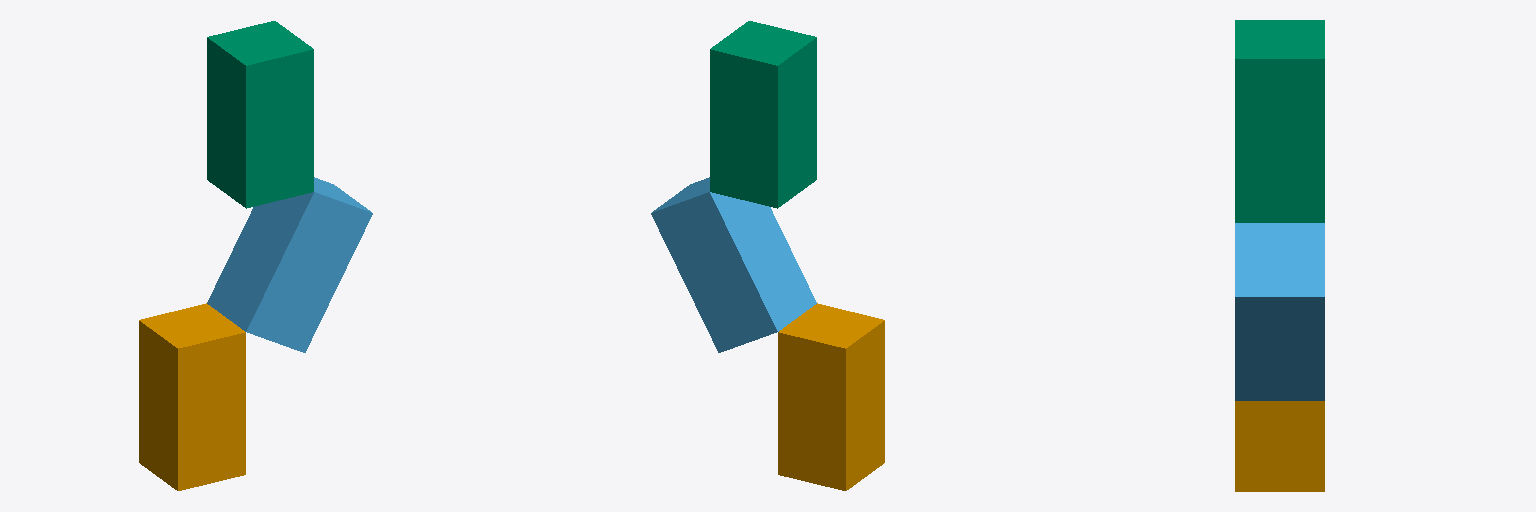
robot.urdf — test_blocks_assy:
<?xml version="1.0" ?>
<robot name="test_blocks_assy">

  <mujoco>
    <compiler meshdir="meshes" fusestatic="false"/>
  </mujoco>

<link name="base_link">
  <inertial>
    <origin xyz="0.0 0.0 0.05" rpy="0 0 0"/>
    <mass value="1.9625"/>
    <inertia ixx="0.0020442708333333302" iyy="0.0020442708333333302" izz="0.0008177083333333328" ixy="0.0" iyz="0.0" ixz="0.0"/>
  </inertial>
  <visual>
    <origin xyz="0 0 0" rpy="0 0 0"/>
    <geometry>
      <mesh filename="meshes/base_link.stl" scale="0.001 0.001 0.001"/>
    </geometry>
  </visual>
  <collision>
    <origin xyz="0 0 0" rpy="0 0 0"/>
    <geometry>
      <mesh filename="meshes/base_link.stl" scale="0.001 0.001 0.001"/>
    </geometry>
  </collision>
</link>

<link name="box_11">
  <inertial>
    <origin xyz="0.046650635094610975 0.0 0.030801270189221935" rpy="0 0 0"/>
    <mass value="1.9625000000000006"/>
    <inertia ixx="0.0017376302083333267" iyy="0.0020442708333333268" izz="0.0011243489583333335" ixy="0.0" iyz="0.0" ixz="-0.0005311171421646735"/>
  </inertial>
  <visual>
    <origin xyz="-0.025 -0.0 -0.1" rpy="0 0 0"/>
    <geometry>
      <mesh filename="meshes/box_11.stl" scale="0.001 0.001 0.001"/>
    </geometry>

  </visual>
  <collision>
    <origin xyz="-0.025 -0.0 -0.1" rpy="0 0 0"/>
    <geometry>
      <mesh filename="meshes/box_11.stl" scale="0.001 0.001 0.001"/>
    </geometry>
  </collision>
</link>

<link name="box_21">
  <inertial>
    <origin xyz="-0.024999999999999994 0.0 0.049999540378443896" rpy="0 0 0"/>
    <mass value="1.9625"/>
    <inertia ixx="0.0020442708333333476" iyy="0.0020442708333333476" izz="0.0008177083333333309" ixy="0.0" iyz="0.0" ixz="0.0"/>
  </inertial>
  <visual>
    <origin xyz="-0.075 -0.0 -0.186603" rpy="0 0 0"/>
    <geometry>
      <mesh filename="meshes/box_21.stl" scale="0.001 0.001 0.001"/>
    </geometry>
  </visual>
  <collision>
    <origin xyz="-0.075 -0.0 -0.186603" rpy="0 0 0"/>
    <geometry>
      <mesh filename="meshes/box_21.stl" scale="0.001 0.001 0.001"/>
    </geometry>
  </collision>
</link>

<joint name="Revolute_3" type="fixed">
  <origin xyz="0.025 0.0 0.1" rpy="0 0 0"/>
  <parent link="base_link"/>
  <child link="box_11"/>
  <axis xyz="0.0 1.0 0.0"/>
</joint>

<joint name="Revolute_4" type="fixed">
  <origin xyz="0.05 0.0 0.086603" rpy="0 0 0"/>
  <parent link="box_11"/>
  <child link="box_21"/>
  <axis xyz="0.0 -1.0 0.0"/>
</joint>

</robot>

--- Facts derived from the render (not from the file) ---
Views: 3 orthographic renders of the robot side by side, from view 1: azimuth 30°, elevation 25°; view 2: azimuth 150°, elevation 25°; view 3: azimuth 270°, elevation 25°.
Model test_blocks_assy with 3 links and 2 joints (2 fixed), rooted at base_link, posed every joint at zero.
Visible links, largest first — view 1: base_link, box_21, box_11; view 2: base_link, box_21, box_11; view 3: box_21, box_11, base_link.
Boxes of the visible links, box(x1,y1,x2,y2) form: base_link: box(139, 303, 245, 490); box_21: box(207, 21, 313, 208); box_11: box(207, 177, 372, 352); base_link: box(778, 303, 884, 490); box_21: box(710, 21, 816, 208); box_11: box(651, 177, 816, 352); box_21: box(1235, 20, 1324, 222); box_11: box(1235, 223, 1324, 400); base_link: box(1235, 401, 1324, 491).
Size in the robot's own frame: 0.1433 by 0.05 by 0.2866 metres.
3 mesh visuals loaded from 3 distinct referenced files (3 binary STL).